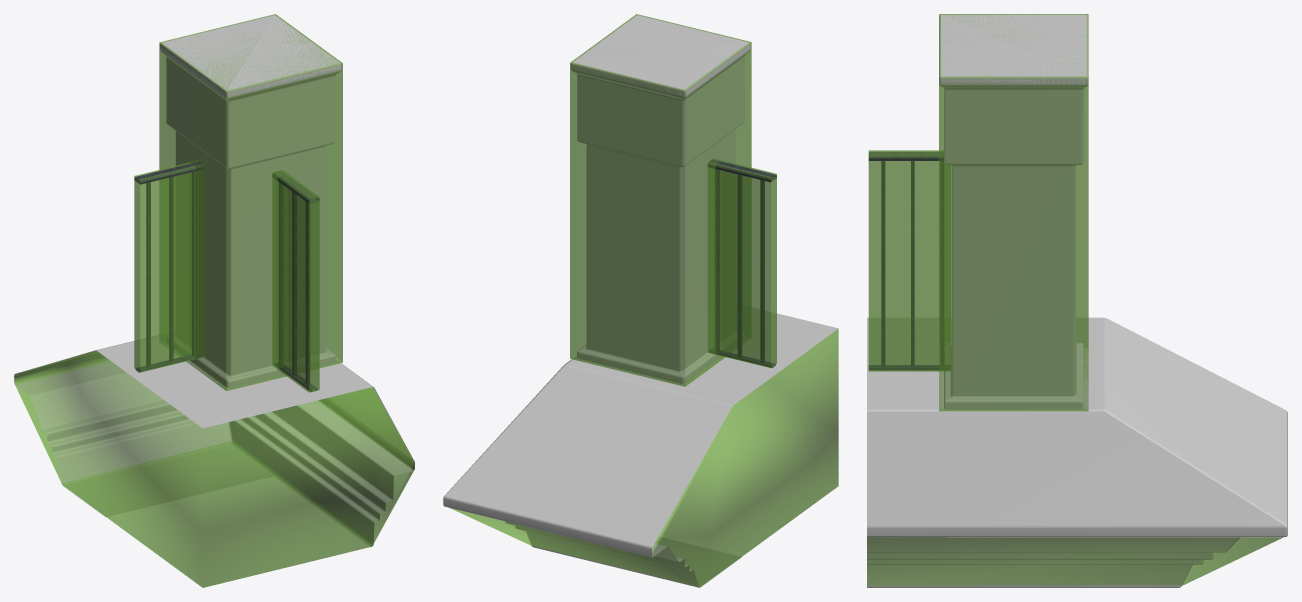
File: F7_md_Roof_end_01.fbx
3 renders of one model, left to right at view 1: azimuth 30°, elevation 25°; view 2: azimuth 150°, elevation 25°; view 3: azimuth 270°, elevation 25°, orthographic. The views are drawn at different scales.
Visible parts, largest first — view 1: F7_md_Roof_end_01_LOD0, F7_md_Roof_end_01_col_04, F7_md_Roof_end_01_col_01, F7_md_Roof_end_01_col_02, F7_md_Roof_end_01_col_03; view 2: F7_md_Roof_end_01_LOD0, F7_md_Roof_end_01_col_01, F7_md_Roof_end_01_col_04, F7_md_Roof_end_01_col_02; view 3: F7_md_Roof_end_01_LOD0, F7_md_Roof_end_01_col_01, F7_md_Roof_end_01_col_03, F7_md_Roof_end_01_col_04.
Boxes of the visible parts, left/top/right/bottom form: F7_md_Roof_end_01_LOD0: left=14, top=15, right=414, bottom=547; F7_md_Roof_end_01_col_04: left=14, top=350, right=414, bottom=587; F7_md_Roof_end_01_col_01: left=159, top=14, right=342, bottom=390; F7_md_Roof_end_01_col_02: left=134, top=160, right=203, bottom=372; F7_md_Roof_end_01_col_03: left=272, top=170, right=319, bottom=392; F7_md_Roof_end_01_LOD0: left=443, top=15, right=838, bottom=587; F7_md_Roof_end_01_col_01: left=570, top=14, right=751, bottom=386; F7_md_Roof_end_01_col_04: left=449, top=328, right=838, bottom=587; F7_md_Roof_end_01_col_02: left=708, top=158, right=776, bottom=367; F7_md_Roof_end_01_LOD0: left=867, top=15, right=1287, bottom=587; F7_md_Roof_end_01_col_01: left=939, top=14, right=1088, bottom=411; F7_md_Roof_end_01_col_03: left=868, top=150, right=950, bottom=371; F7_md_Roof_end_01_col_04: left=867, top=537, right=1283, bottom=585.
Size of what is drawn, in the model's own units: 126 by 261 by 194.
